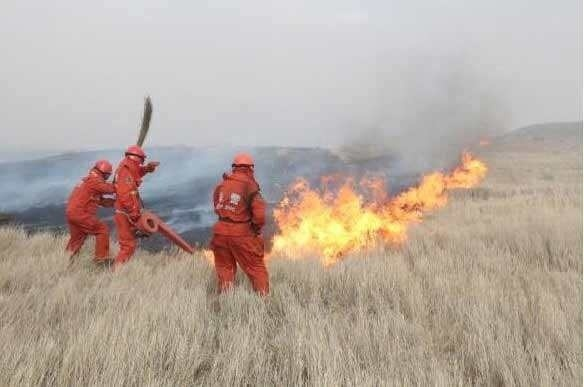fire: (263, 142, 491, 263)
